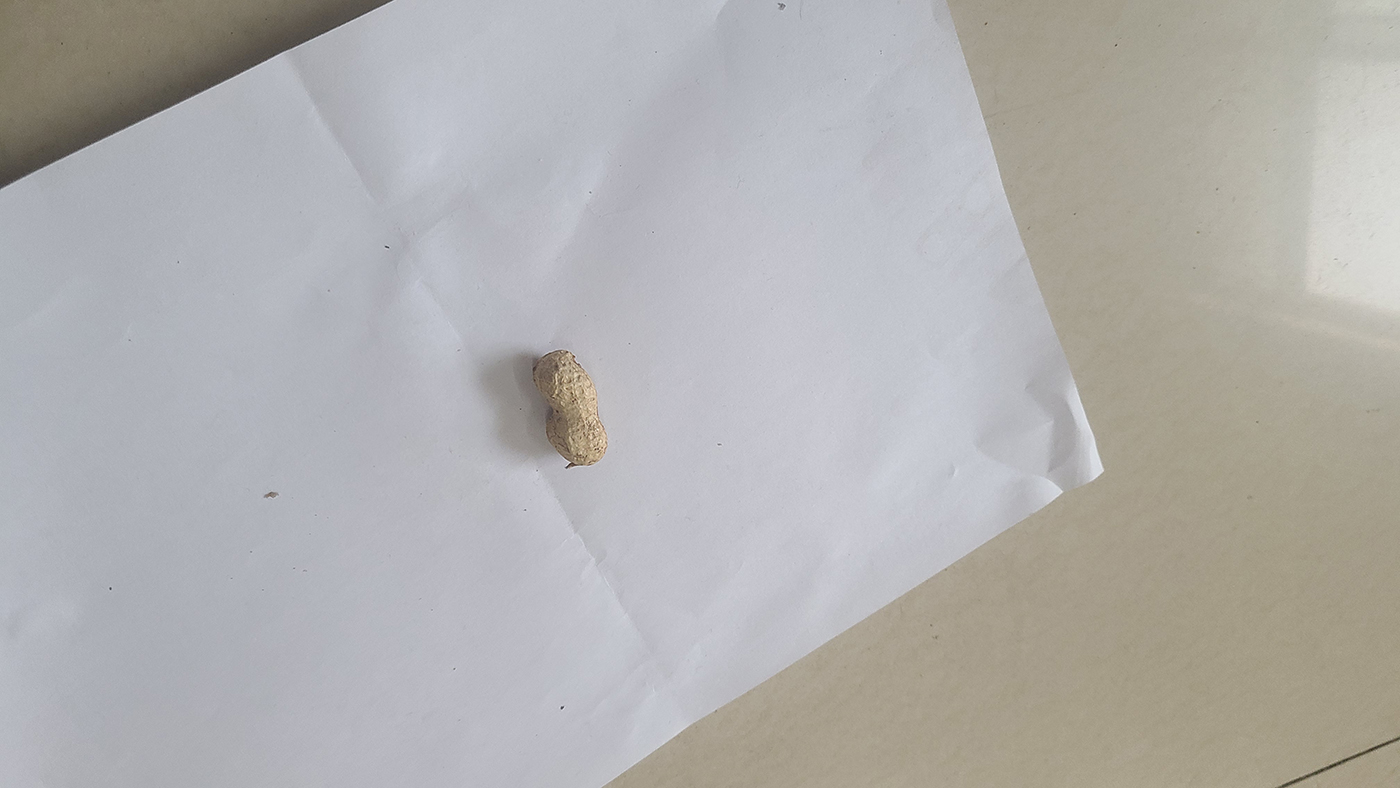h: (533, 348, 609, 465)
